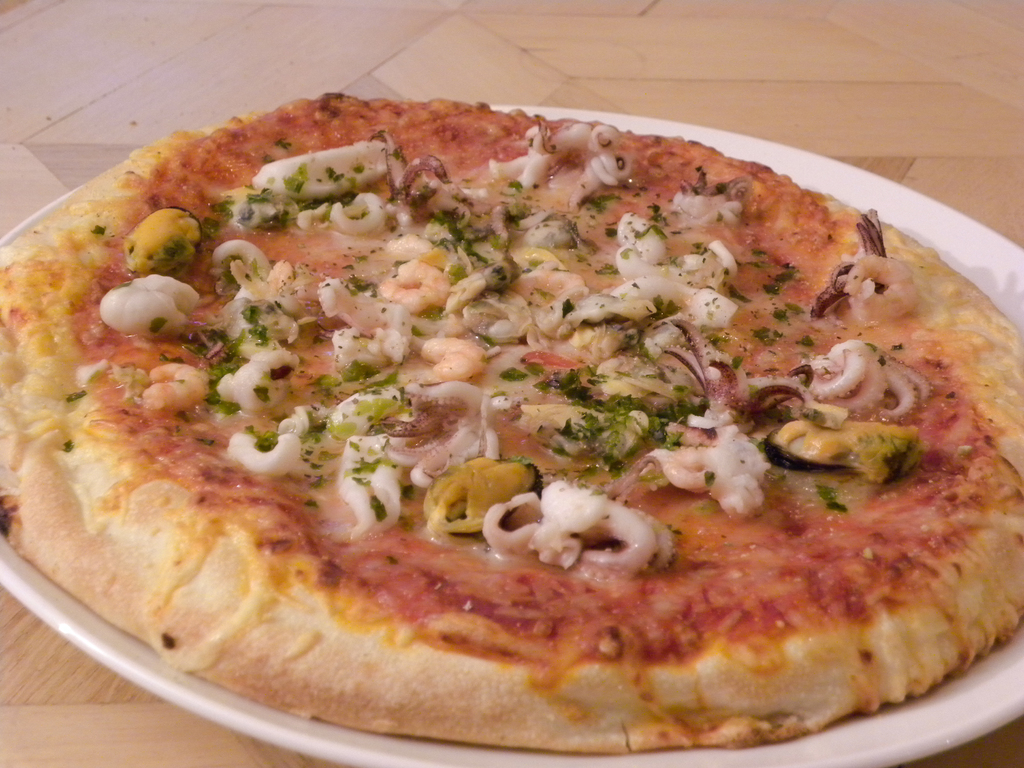Pizza: (25, 97, 1017, 757)
